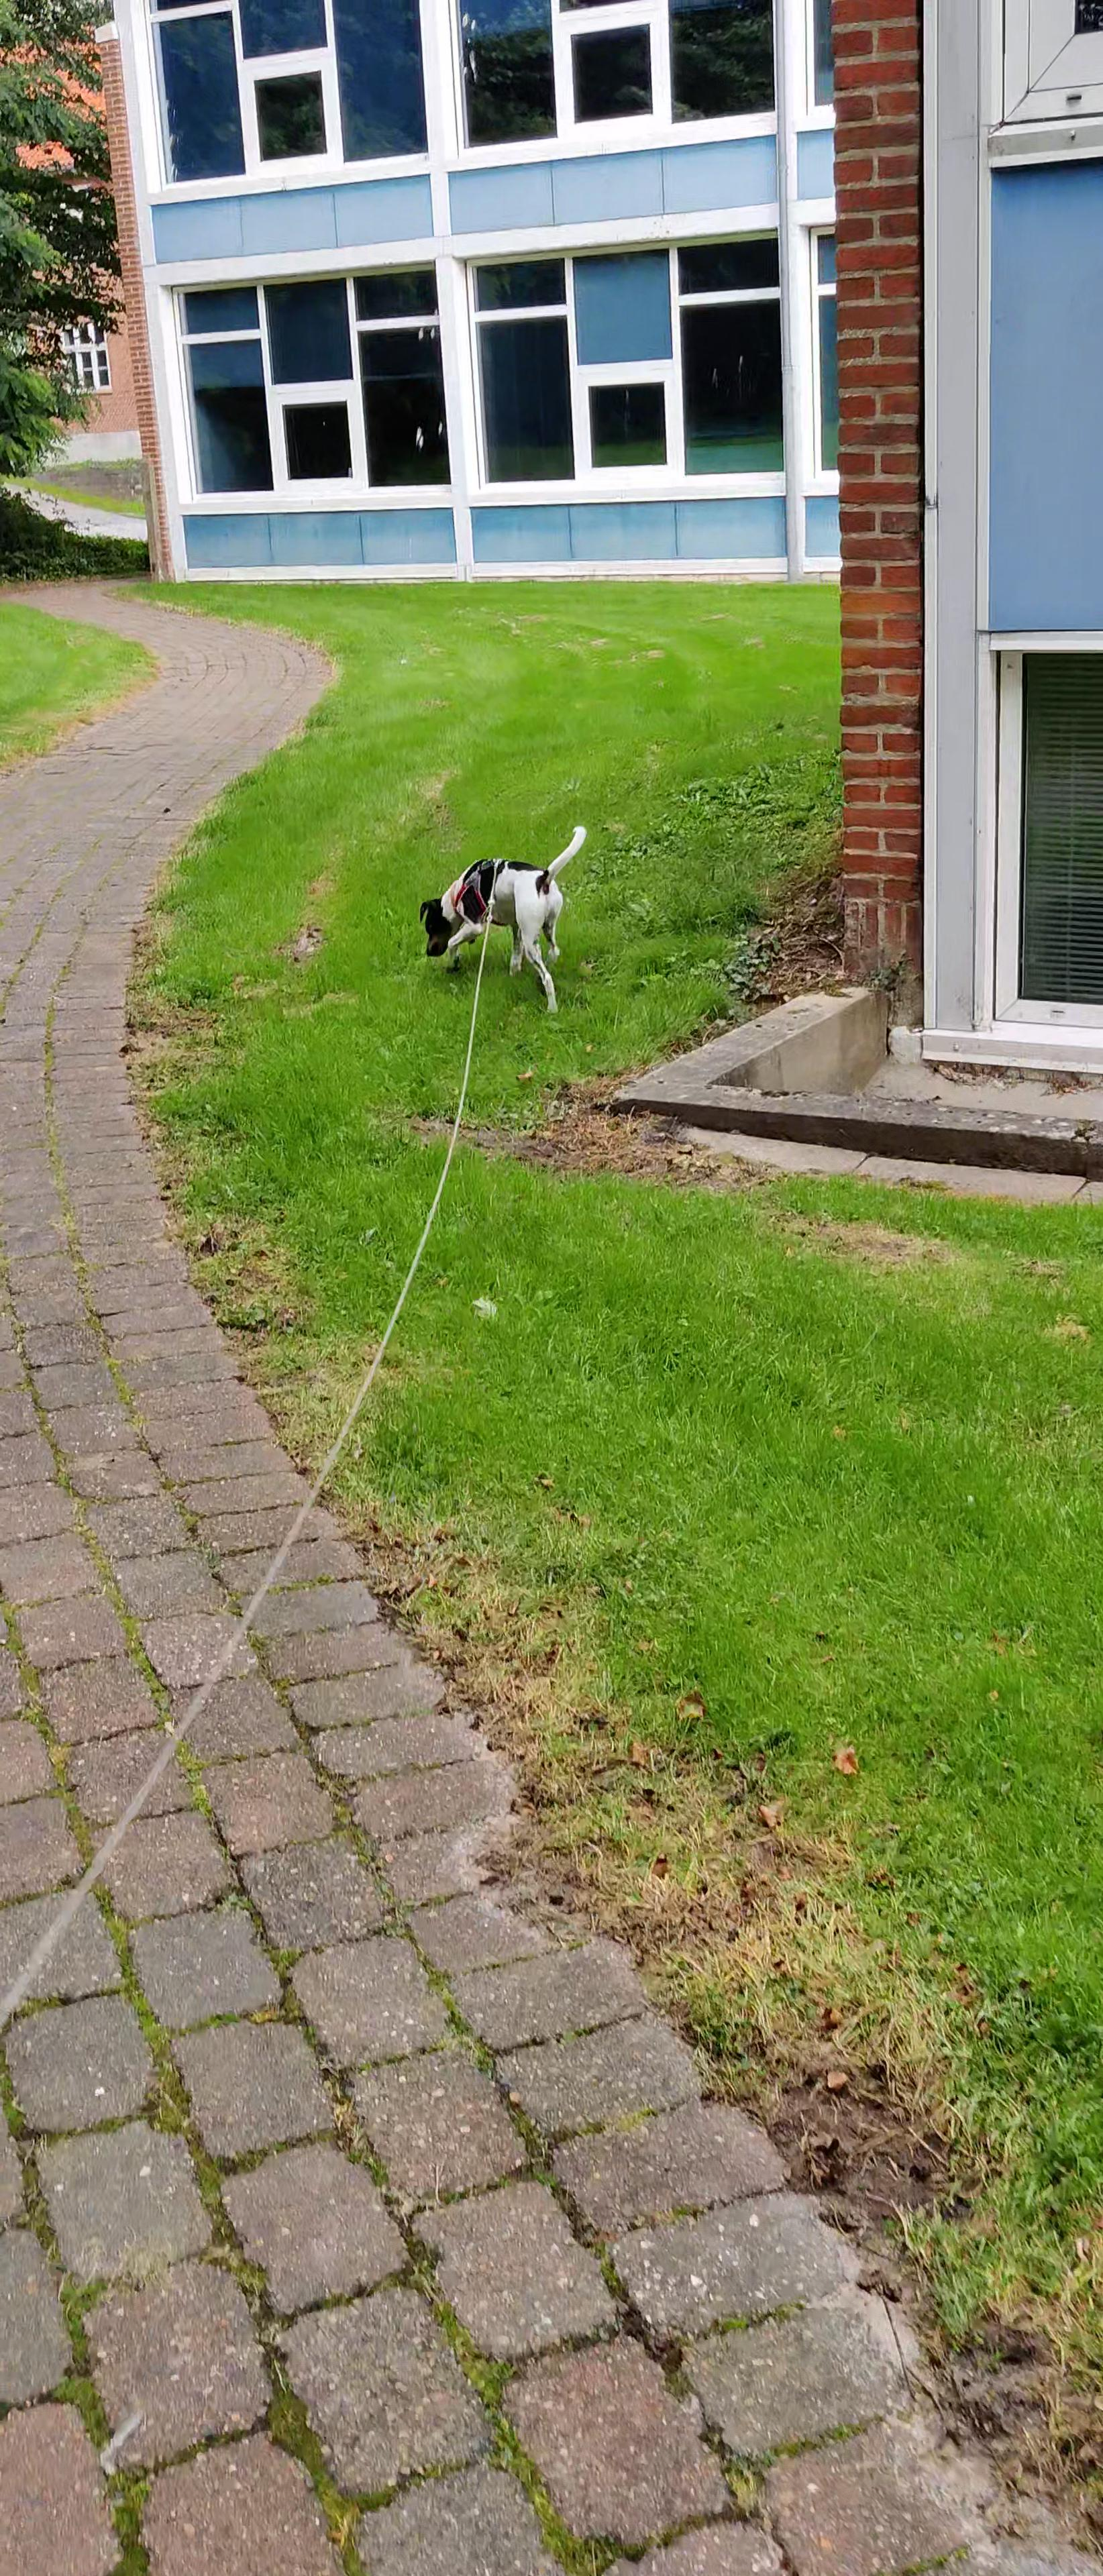Dog: (409, 803, 592, 1019)
